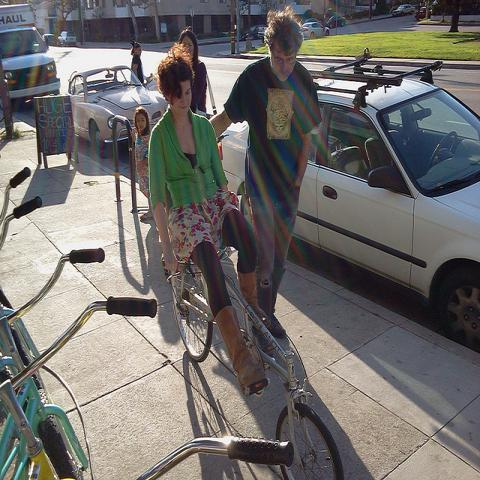car: (298, 47, 479, 351), (68, 66, 169, 160), (302, 22, 330, 39), (324, 14, 346, 28), (57, 31, 77, 46), (392, 4, 415, 17), (415, 7, 433, 20), (252, 27, 268, 39), (42, 34, 54, 43)
truck: (1, 5, 61, 110)
